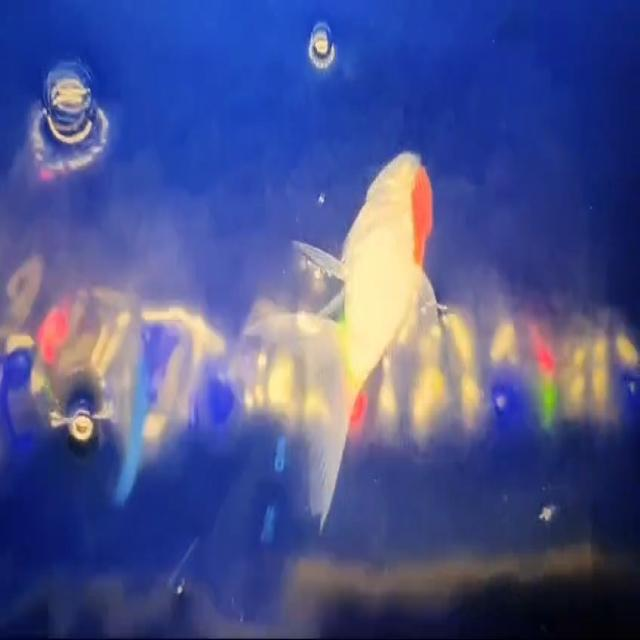fish: (253, 146, 432, 530)
